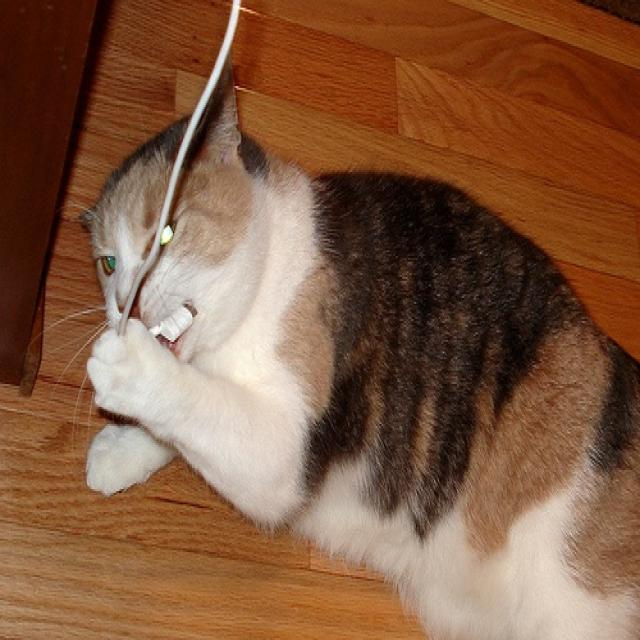cat: (26, 55, 638, 638)
